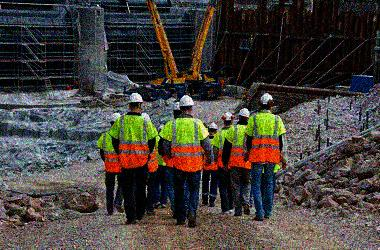helmet: (179, 94, 194, 114), (128, 92, 143, 112), (259, 92, 273, 109), (237, 106, 250, 122), (108, 112, 121, 125), (222, 112, 233, 126), (207, 122, 217, 135)
